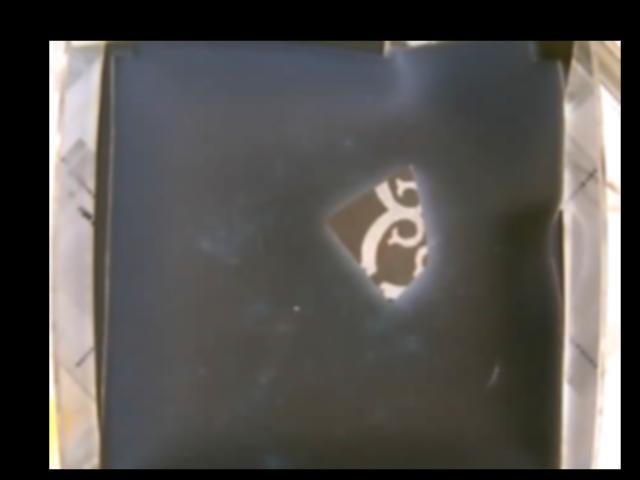China: (332, 163, 426, 304)
